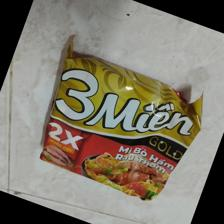3mien: (37, 36, 205, 201)
